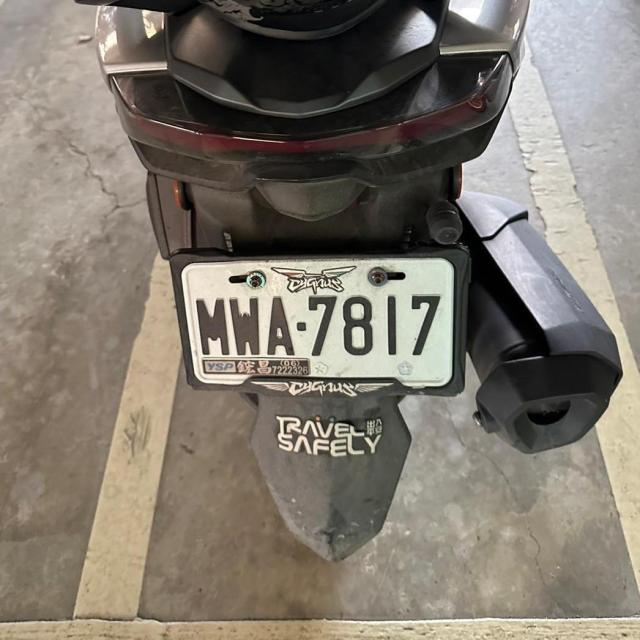W: (171, 238, 463, 398)
